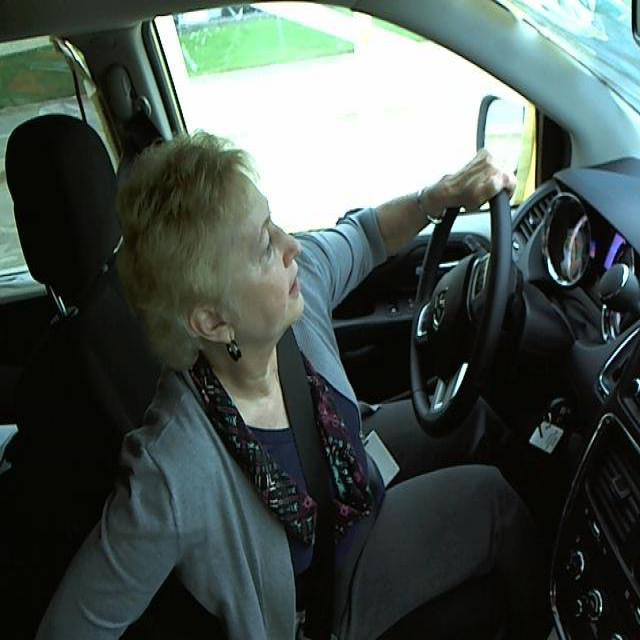seatbelt: (265, 348, 371, 629)
